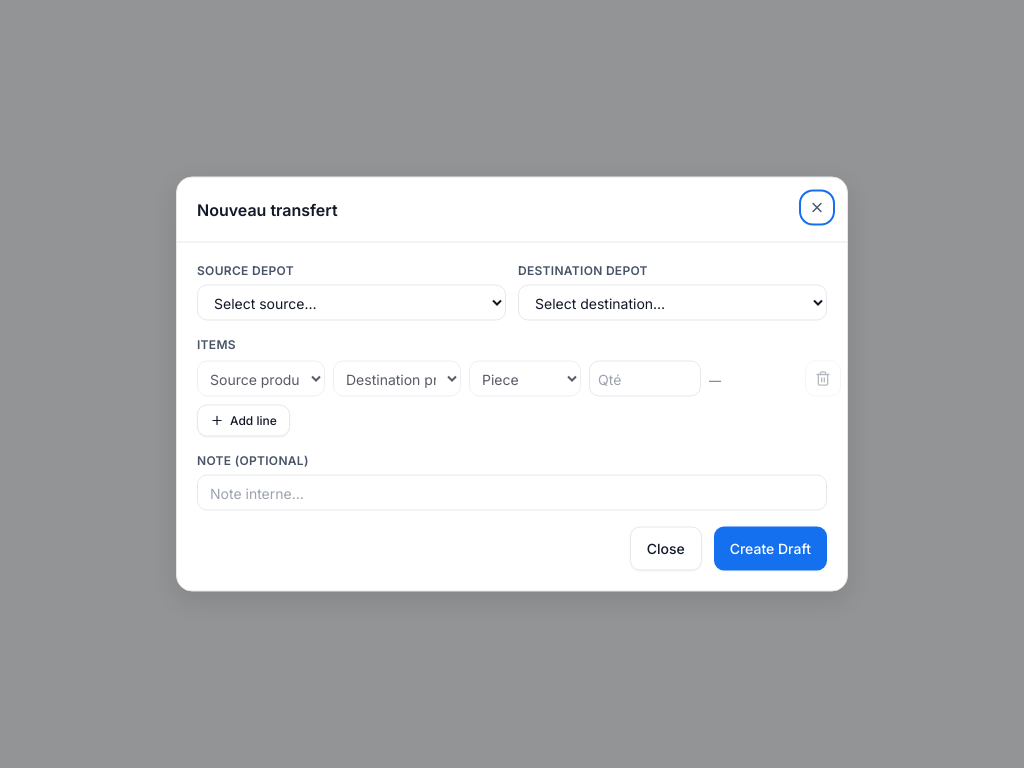
Test: CreateTransferModal › shows mapped duplicate error from the server
Select "Depot Dakar" in the dropdown labelled "Source depot" at (352, 302), box 197,284 -> 506,320
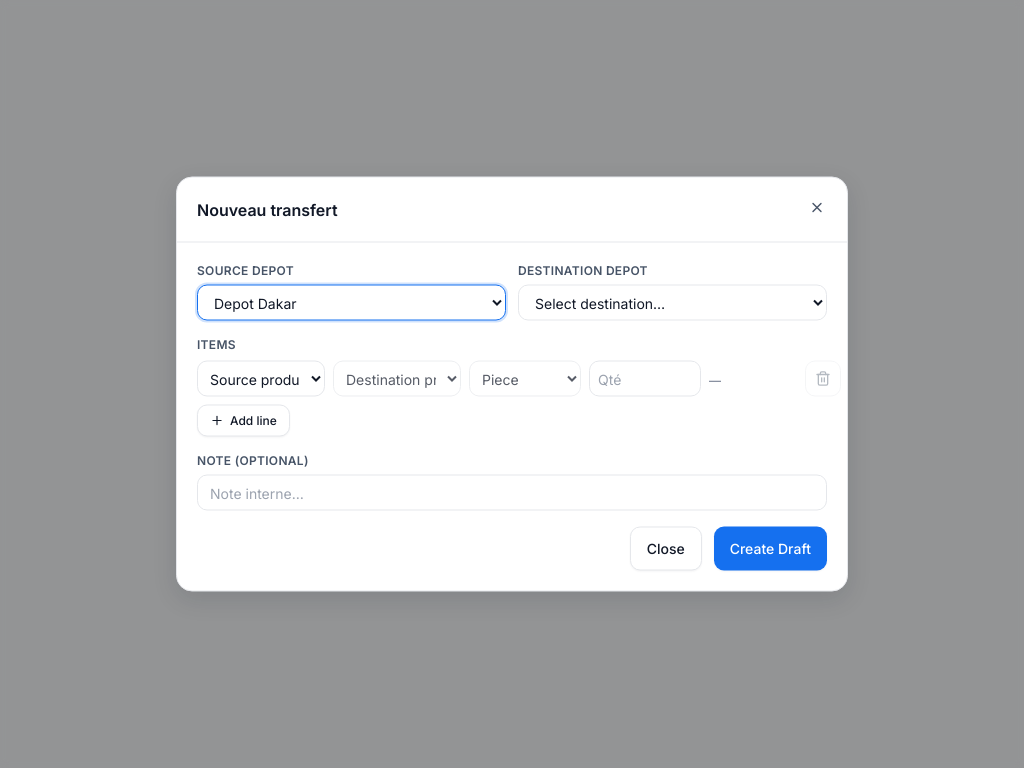
Select "Depot Abidjan" in the dropdown labelled "Destination depot" at (672, 302), box 518,284 -> 827,320
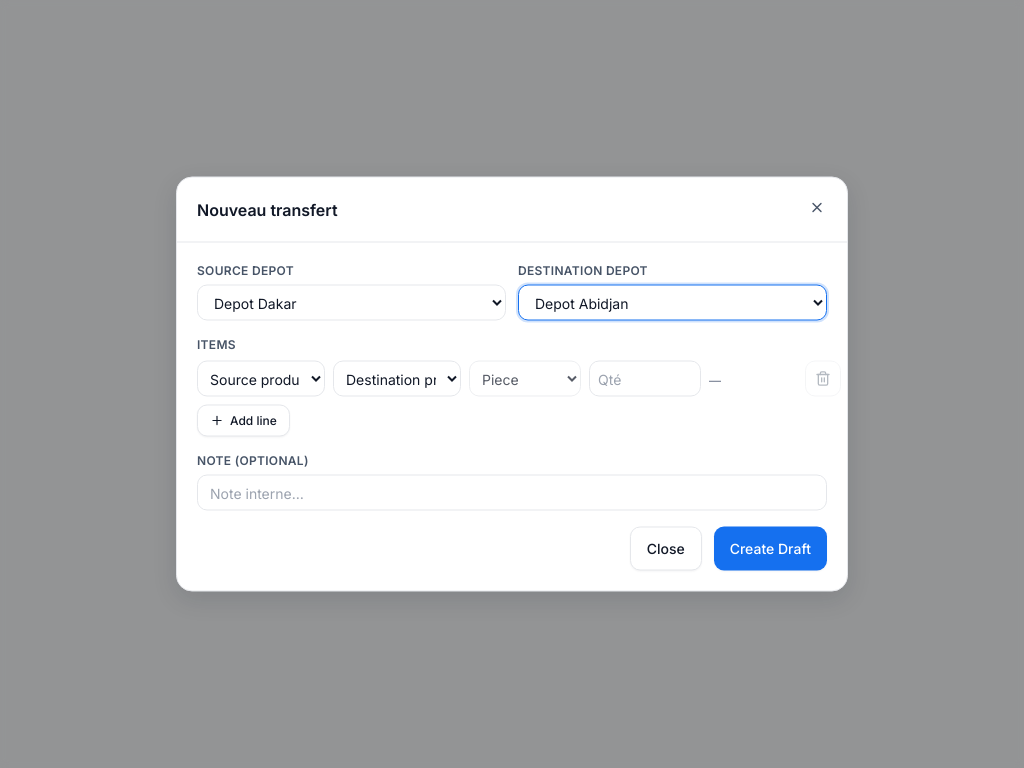
Select "PHASE9 Water" in the dropdown named "Produit source" at (261, 378), box 197,360 -> 325,396
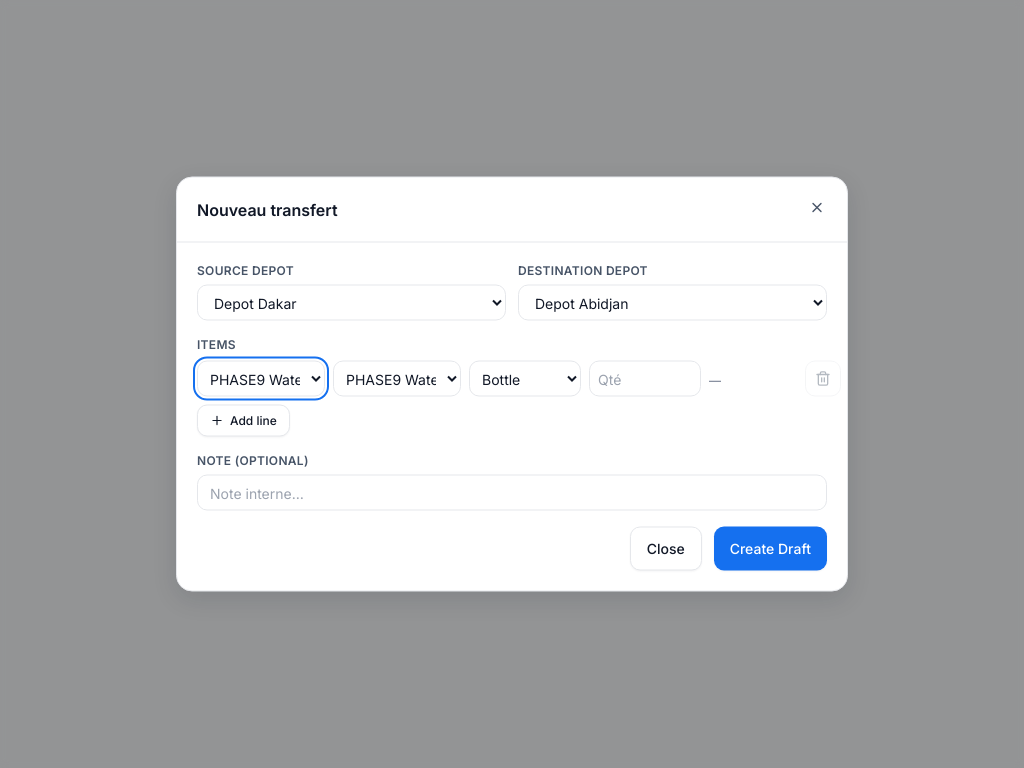
Select "PHASE9 Water" in the dropdown named "Produit destination" at (397, 378), box 333,360 -> 461,396
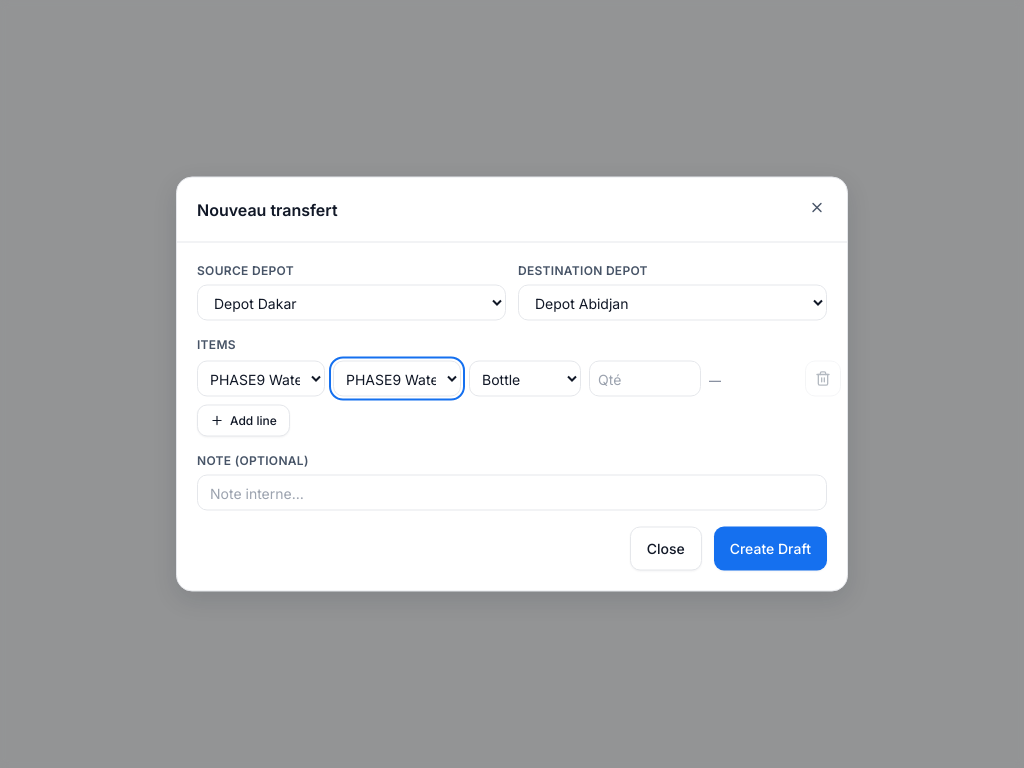
Type "1" into the number field named "Quantité" at (645, 378), box 589,360 -> 701,396
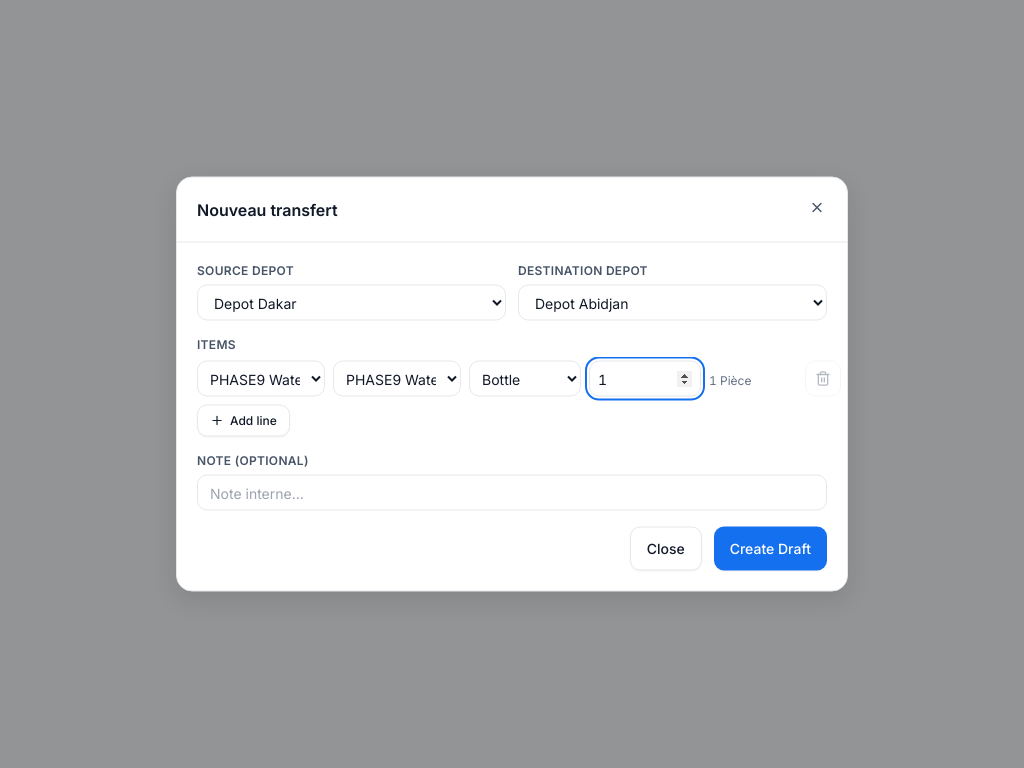
Click the button "Create Draft" at (770, 548), box 714,526 -> 827,570
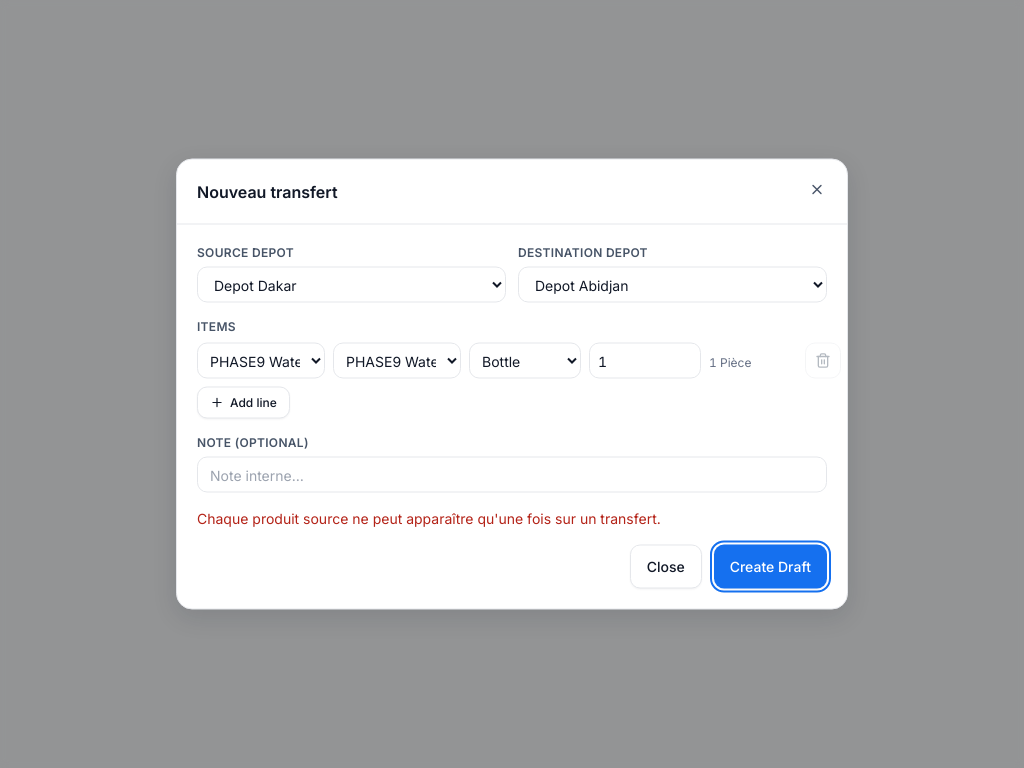
Check: the text "Chaque produit source ne peut apparaître qu'une fois sur un transfert." is shown, box 197,510 -> 661,526
